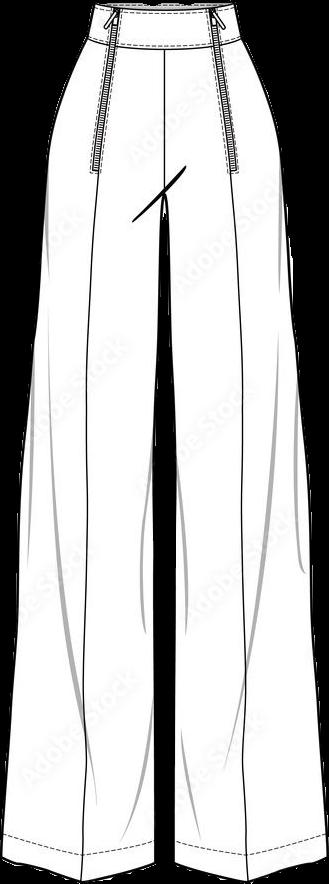Hemline: (172, 845, 328, 883), (1, 850, 157, 883)
Pantleg: (156, 0, 326, 880), (2, 0, 163, 879)
Waistline: (74, 3, 121, 880), (208, 5, 254, 883), (82, 33, 245, 55), (93, 0, 238, 15)
